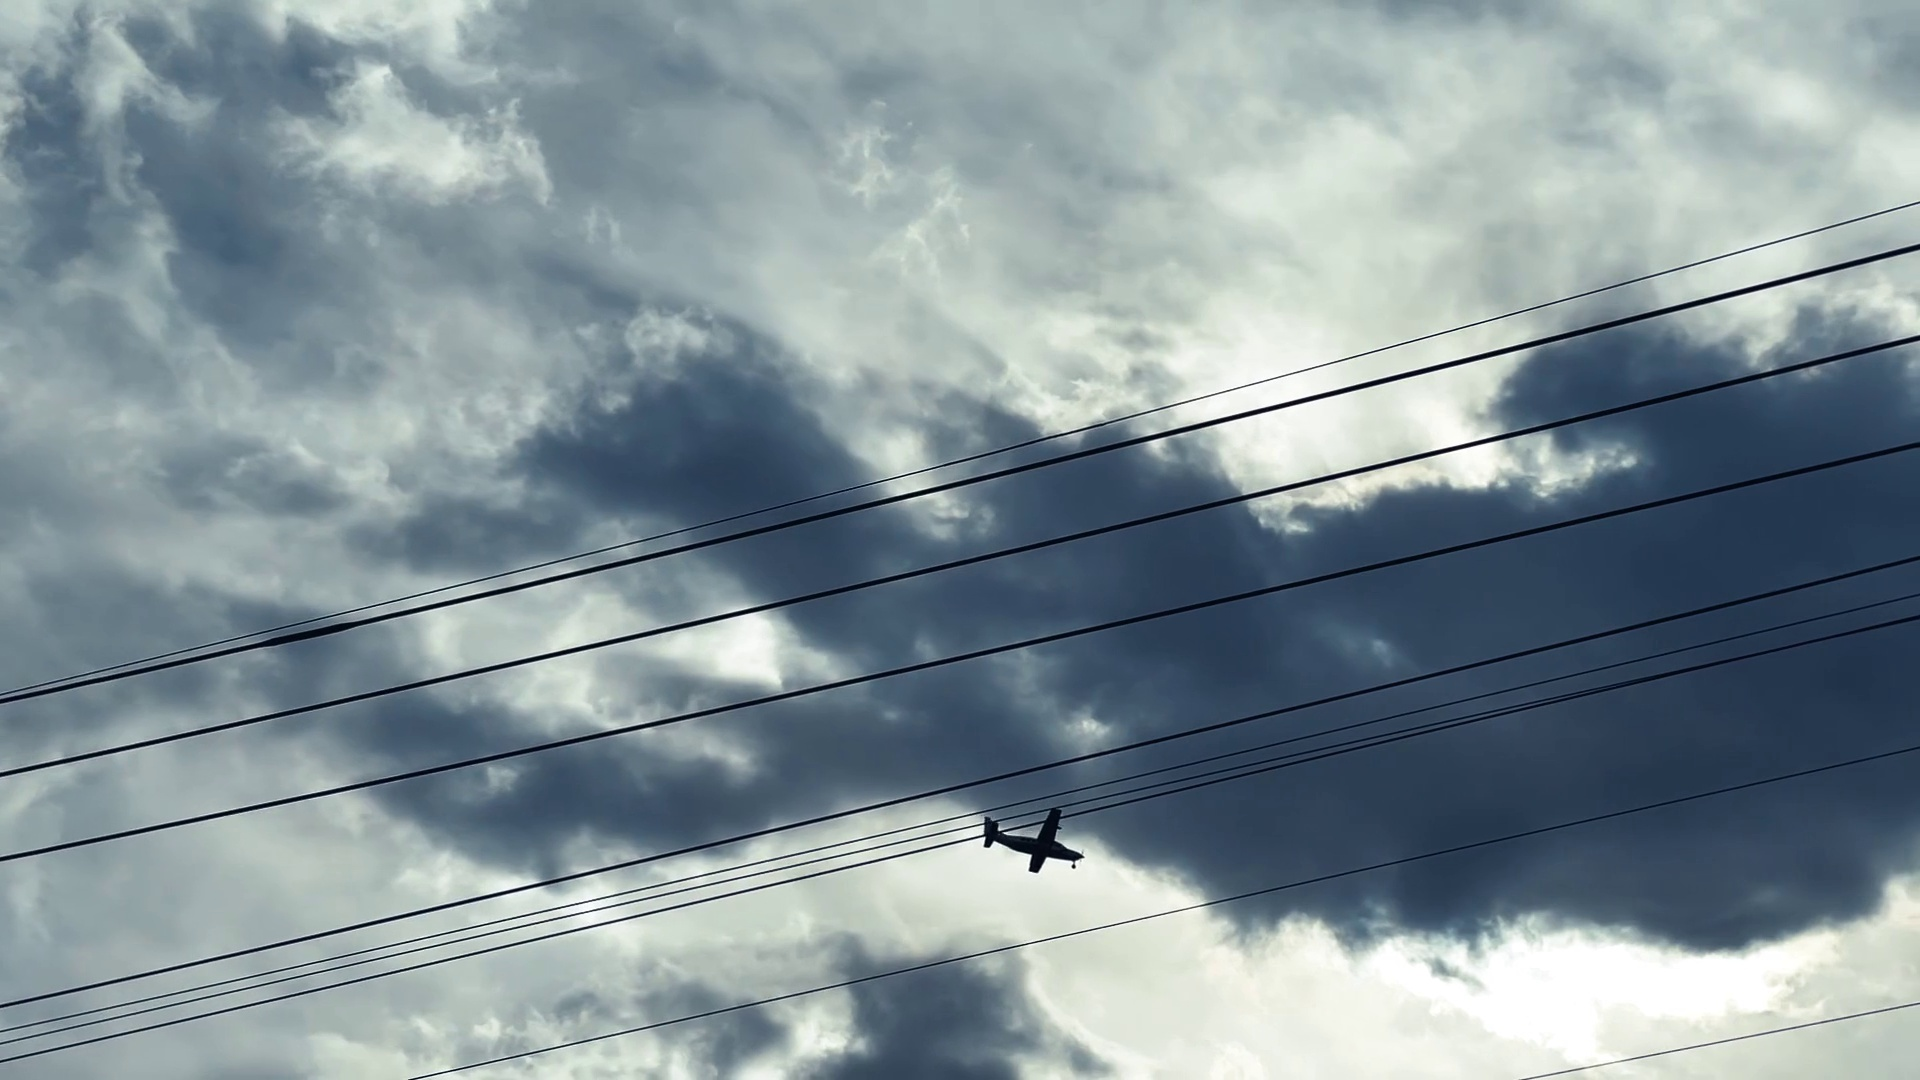plane: (980, 808, 1085, 873)
